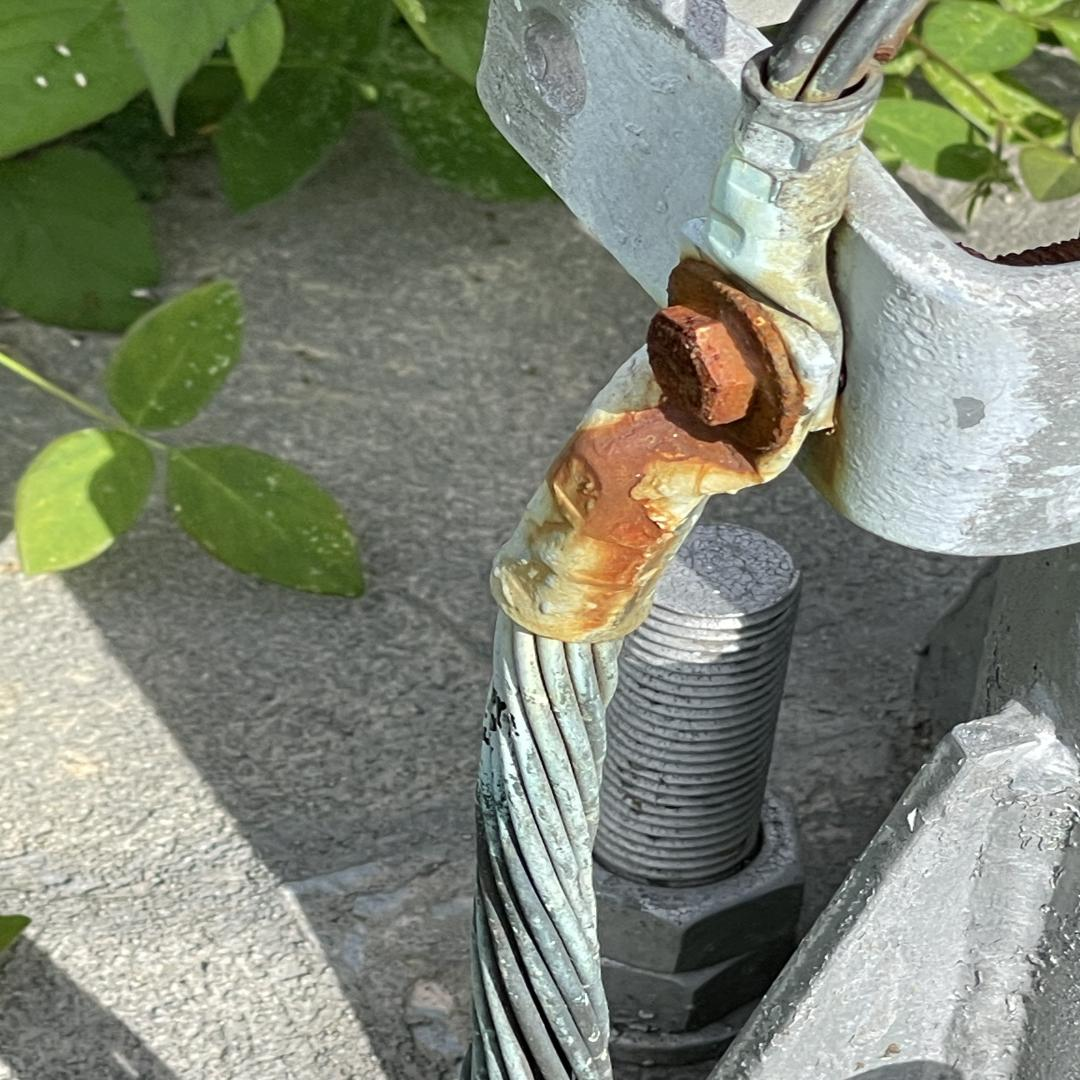Metal: (466, 0, 1080, 1080)
Metal corroido: (491, 261, 803, 643), (955, 238, 1080, 268)
